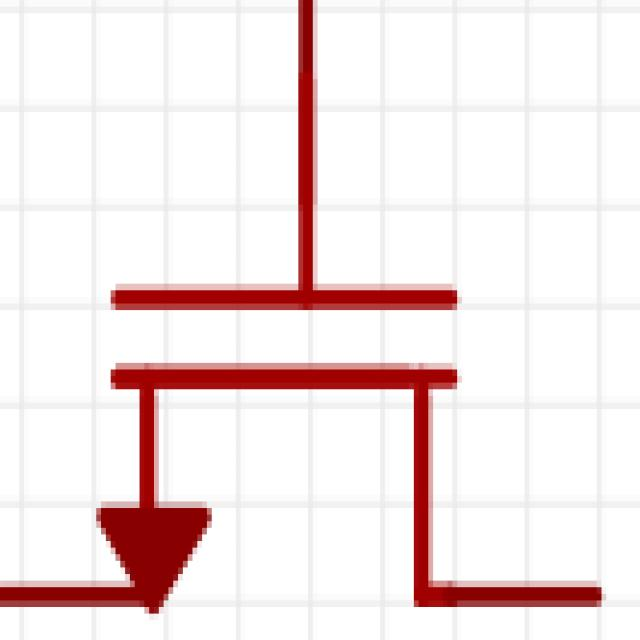nmos: (12, 6, 624, 640)
